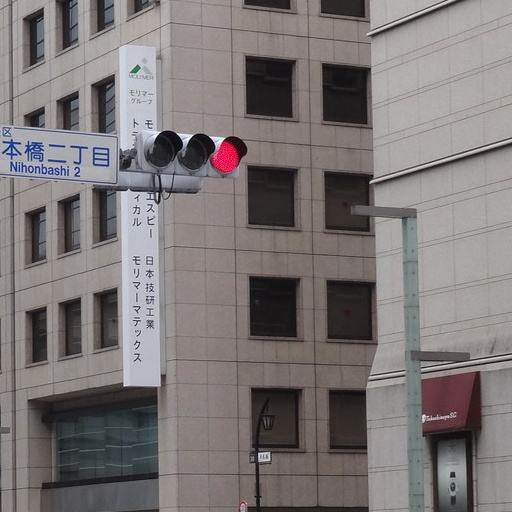Traffic_Signal_Red: (134, 124, 256, 174)
